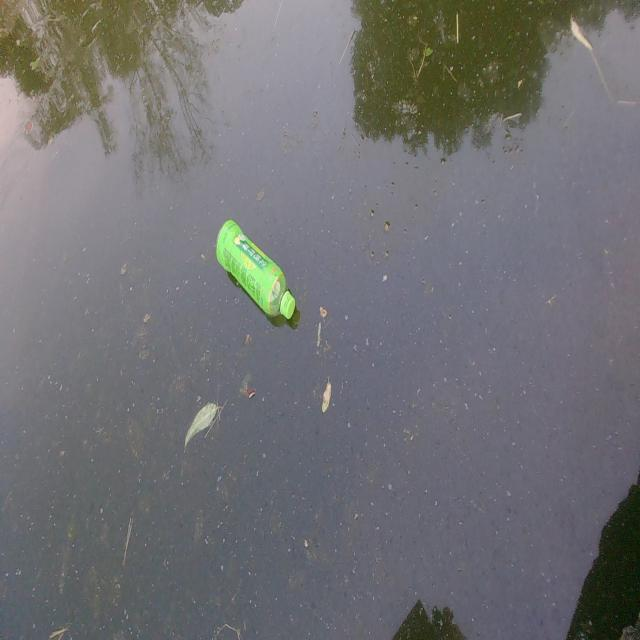garbage: (215, 218, 297, 323)
